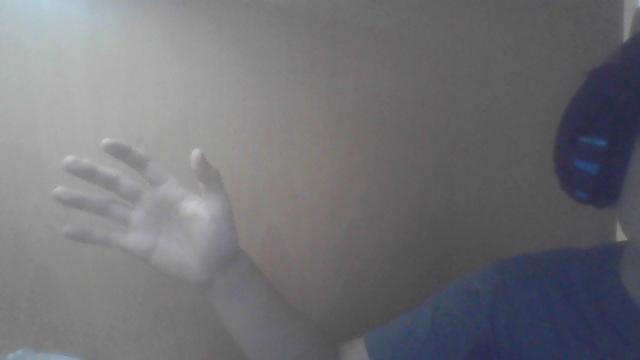Stop: (56, 141, 240, 280)
